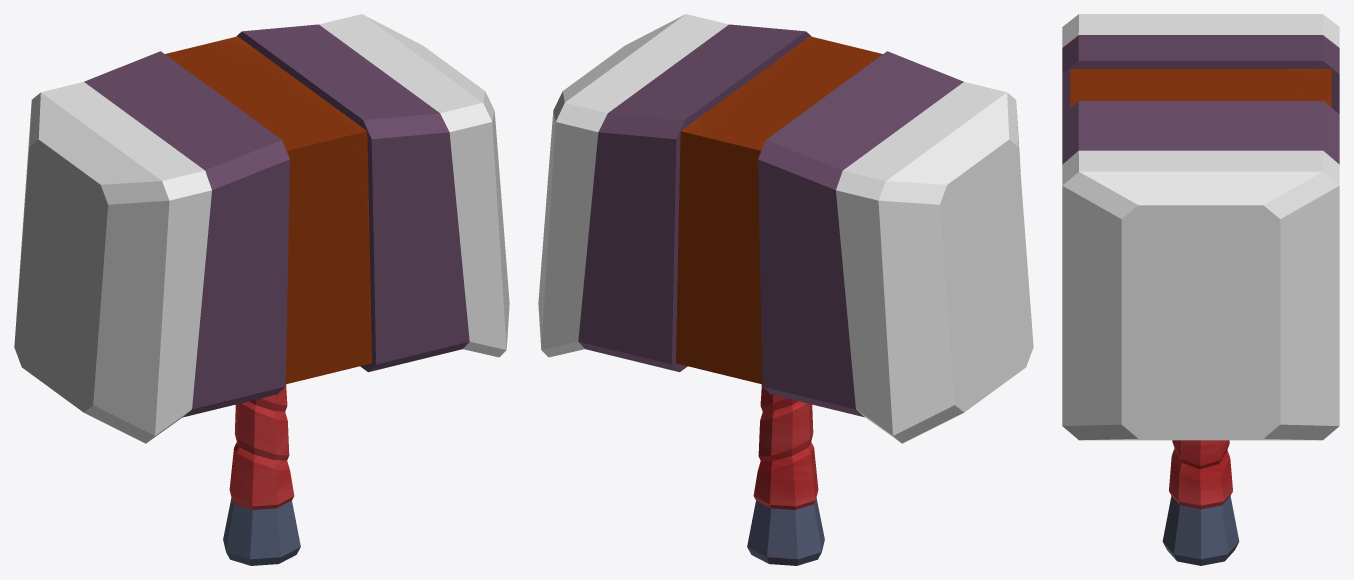
File: Marreta.fbx
The picture shows the model from 3 angles, left to right: view 1: azimuth 30°, elevation 25°; view 2: azimuth 150°, elevation 25°; view 3: azimuth 270°, elevation 25°; orthographic projection.
Parts seen in each view (by area): view 1: Martelo; view 2: Martelo; view 3: Martelo.
Boxes of the visible parts, x1=… form: Martelo: x1=14, y1=14, x2=509, y2=565; Martelo: x1=538, y1=14, x2=1033, y2=565; Martelo: x1=1062, y1=14, x2=1339, y2=565.
Size of the model in its own units: 103 by 110 by 58.91.
Materials: 3 (2 with a texture image).
